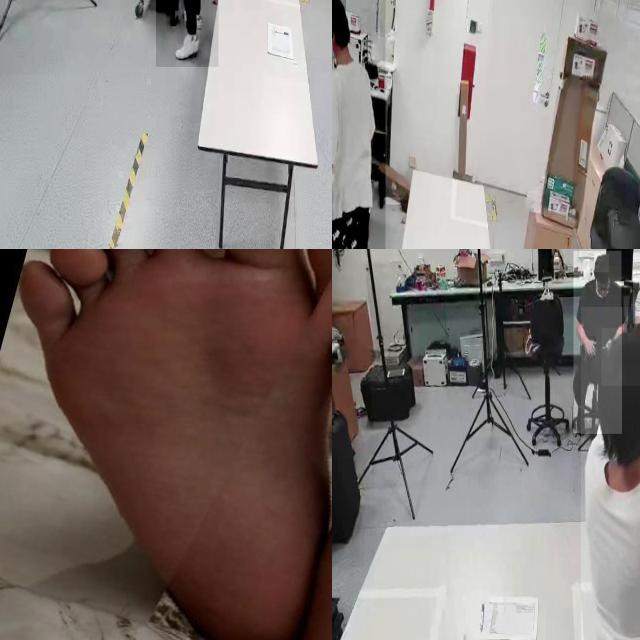Barefoots: (0, 249, 332, 640), (150, 249, 332, 640)
face_mask: (332, 24, 342, 64)
hand_noglove: (582, 336, 596, 359)
head_nohelmet: (601, 328, 640, 386), (594, 253, 610, 273), (332, 0, 346, 20)
person: (332, 0, 385, 249), (574, 251, 622, 434), (156, 0, 219, 67), (633, 252, 640, 324)
shoes: (172, 29, 200, 64)
